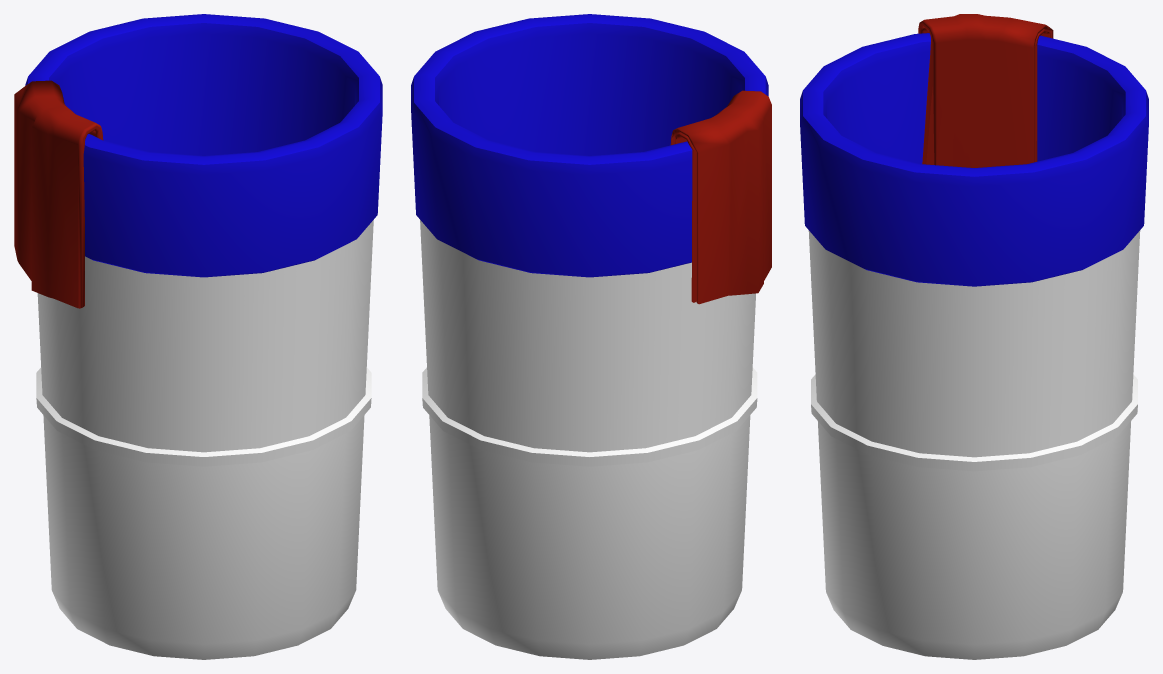
Rendered from SM_LaundryBasket_01.fbx.
3 renders of one model, left to right at view 1: azimuth 30°, elevation 25°; view 2: azimuth 150°, elevation 25°; view 3: azimuth 270°, elevation 25°, orthographic. The views are drawn at different scales.
Parts seen in each view (by area): view 1: SM_LaundryBasket_01; view 2: SM_LaundryBasket_01; view 3: SM_LaundryBasket_01.
Part boxes in pixels (box(x1,y1,x2,y2)): SM_LaundryBasket_01: box(14, 14, 382, 659); SM_LaundryBasket_01: box(411, 14, 771, 659); SM_LaundryBasket_01: box(800, 14, 1148, 659).
Size of the model in its own units: 25.09 by 38.87 by 23.71.
